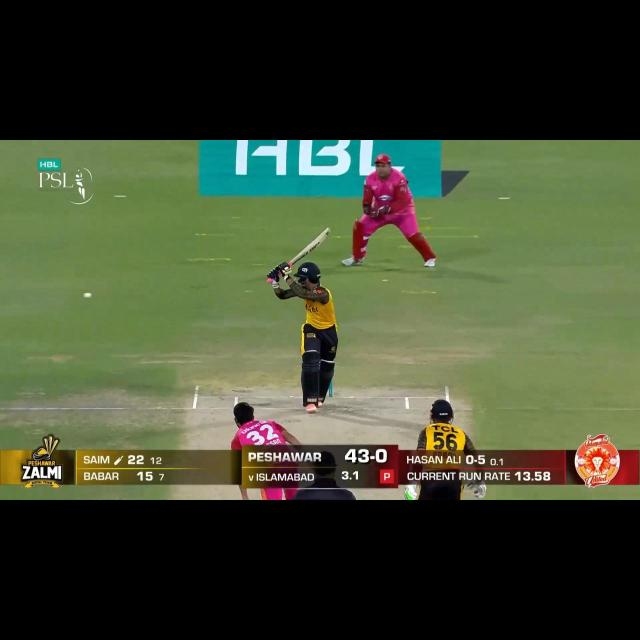bat: (288, 228, 330, 265)
toe: (317, 228, 331, 240)
